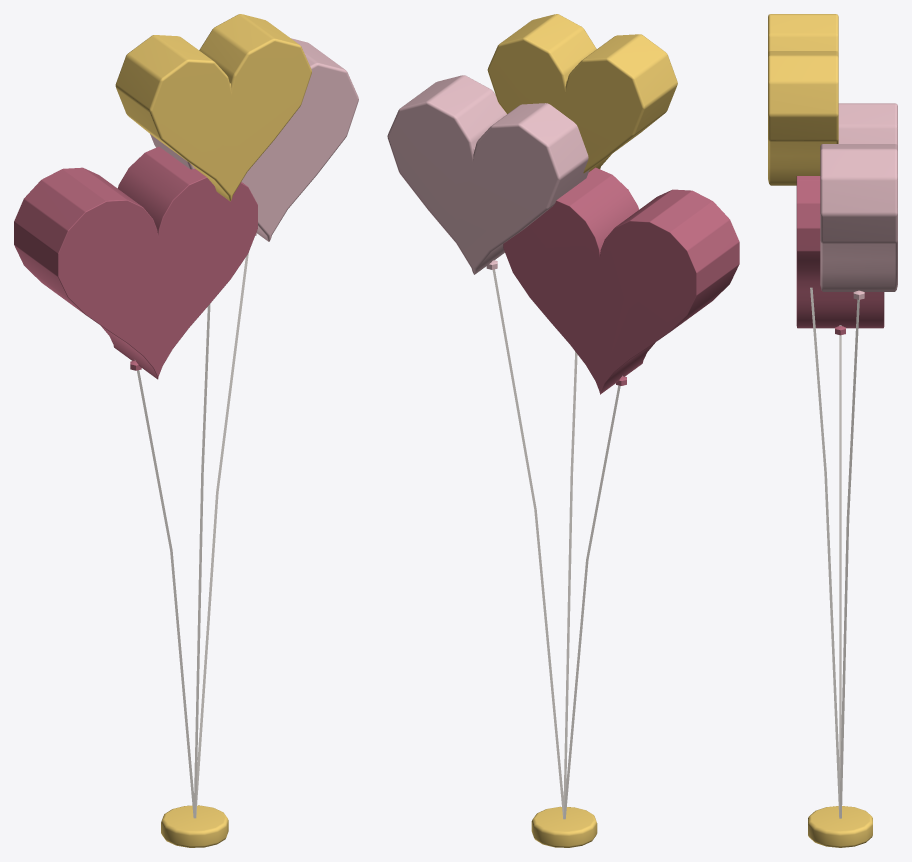
Rendered from balloons_hearts.glb.
3 views of the same model, side by side, from view 1: azimuth 30°, elevation 25°; view 2: azimuth 150°, elevation 25°; view 3: azimuth 270°, elevation 25° (orthographic). The views are drawn at different scales.
Visible parts, largest first — view 1: balloons_hearts; view 2: balloons_hearts; view 3: balloons_hearts.
Part boxes in pixels (x1,y1,x2,y2): balloons_hearts: (14, 14, 358, 847); balloons_hearts: (387, 14, 739, 847); balloons_hearts: (768, 14, 897, 847).
Bounding box in the file's own units: 0.9593 × 2.37 × 0.3495.
